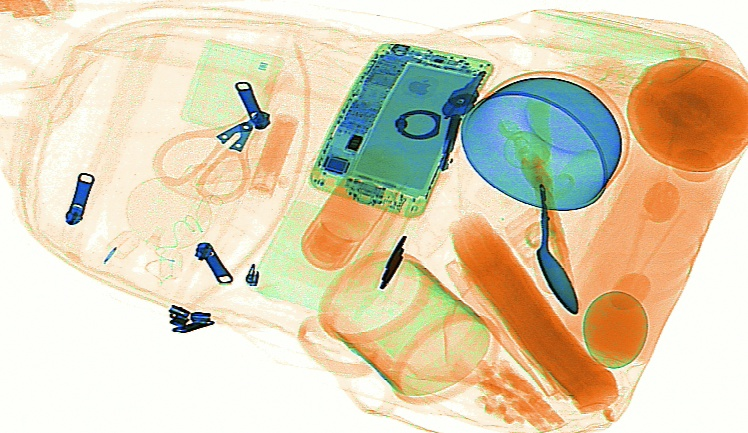scissors: (148, 73, 301, 206)
